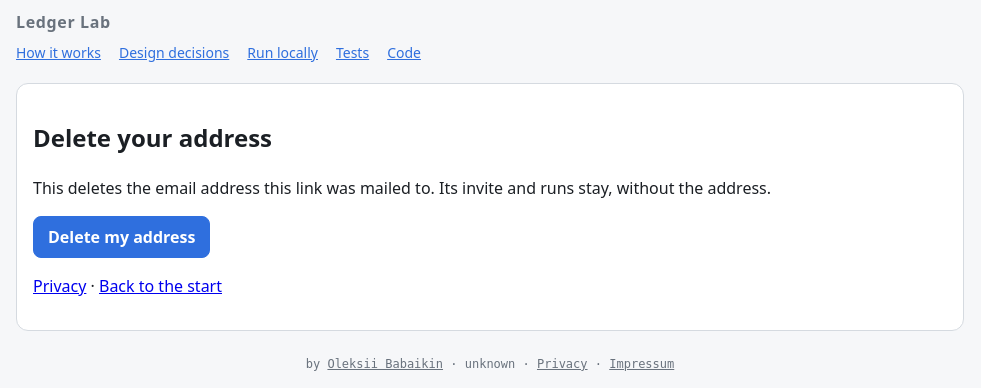
Test case: the delete page › sends nothing until the button is pressed, then the link token, and needs no site settings for its text
Click the button "Delete my address".
click(122, 237)  # box [33, 216, 210, 258]
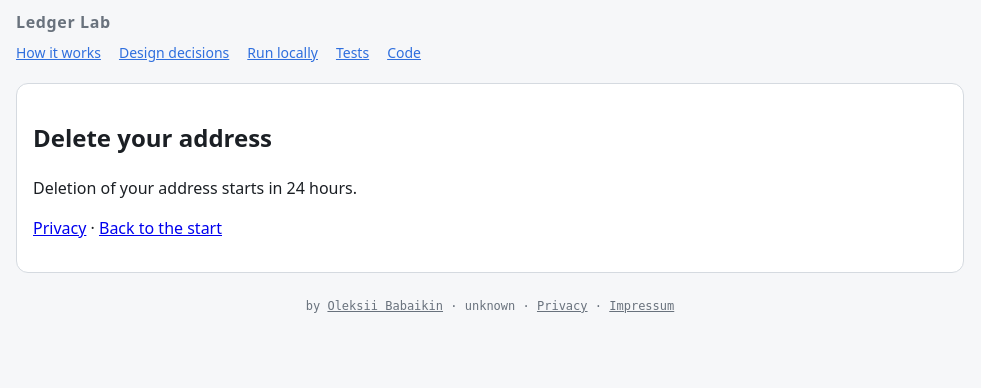
Check: the button "Delete my address" is gone
